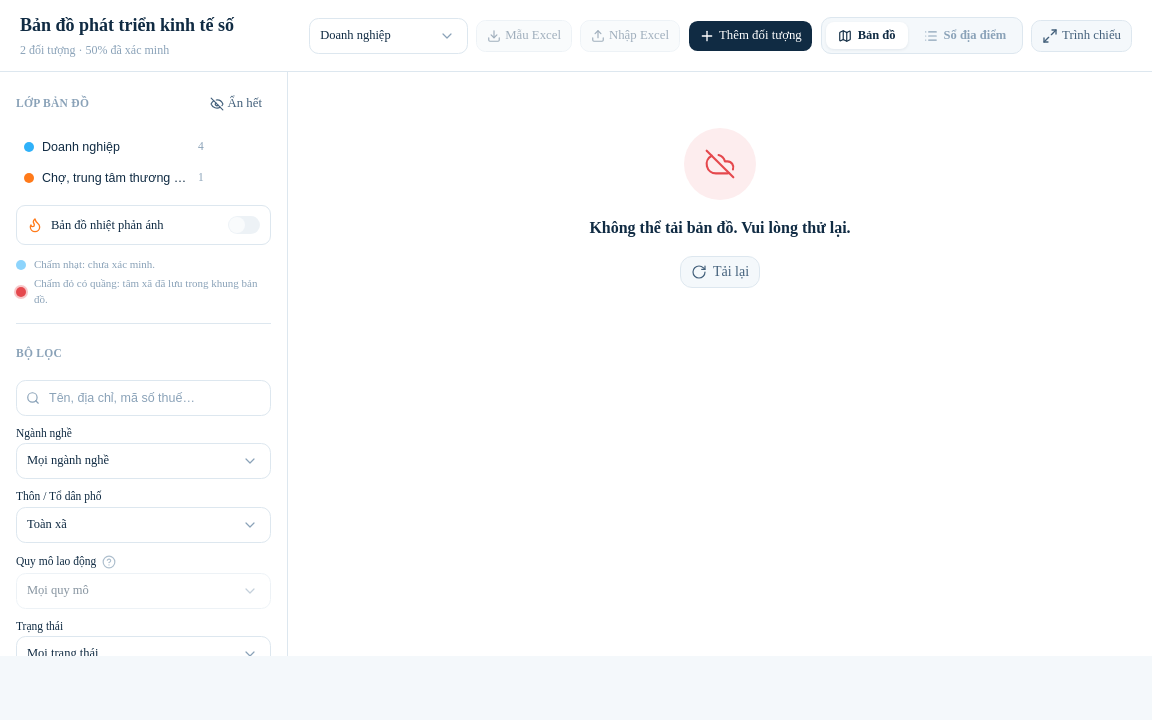
Test case: add / edit dialog (spec 07) › Nhóm: no empty option, the header's group by default, enabled on create; selects and labels at the prototype's size
What coordinates should you click on to do the following:
click the button "Thêm đối tượng"
I would click on:
 (750, 36)
Its box is [688,20,813,52].
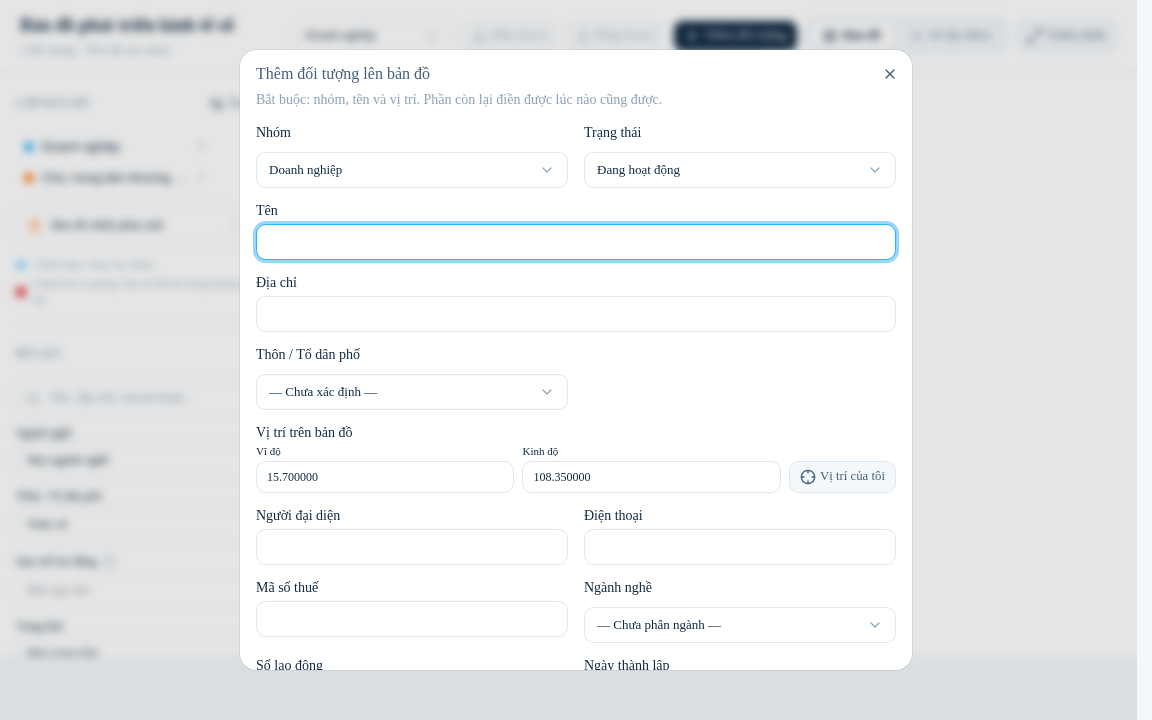
Expected: the dropdown with id "asset-group" shows "Doanh nghiệp", [256,152,568,188]
Expected: the dropdown with id "asset-group" is enabled, [256,152,568,188]
